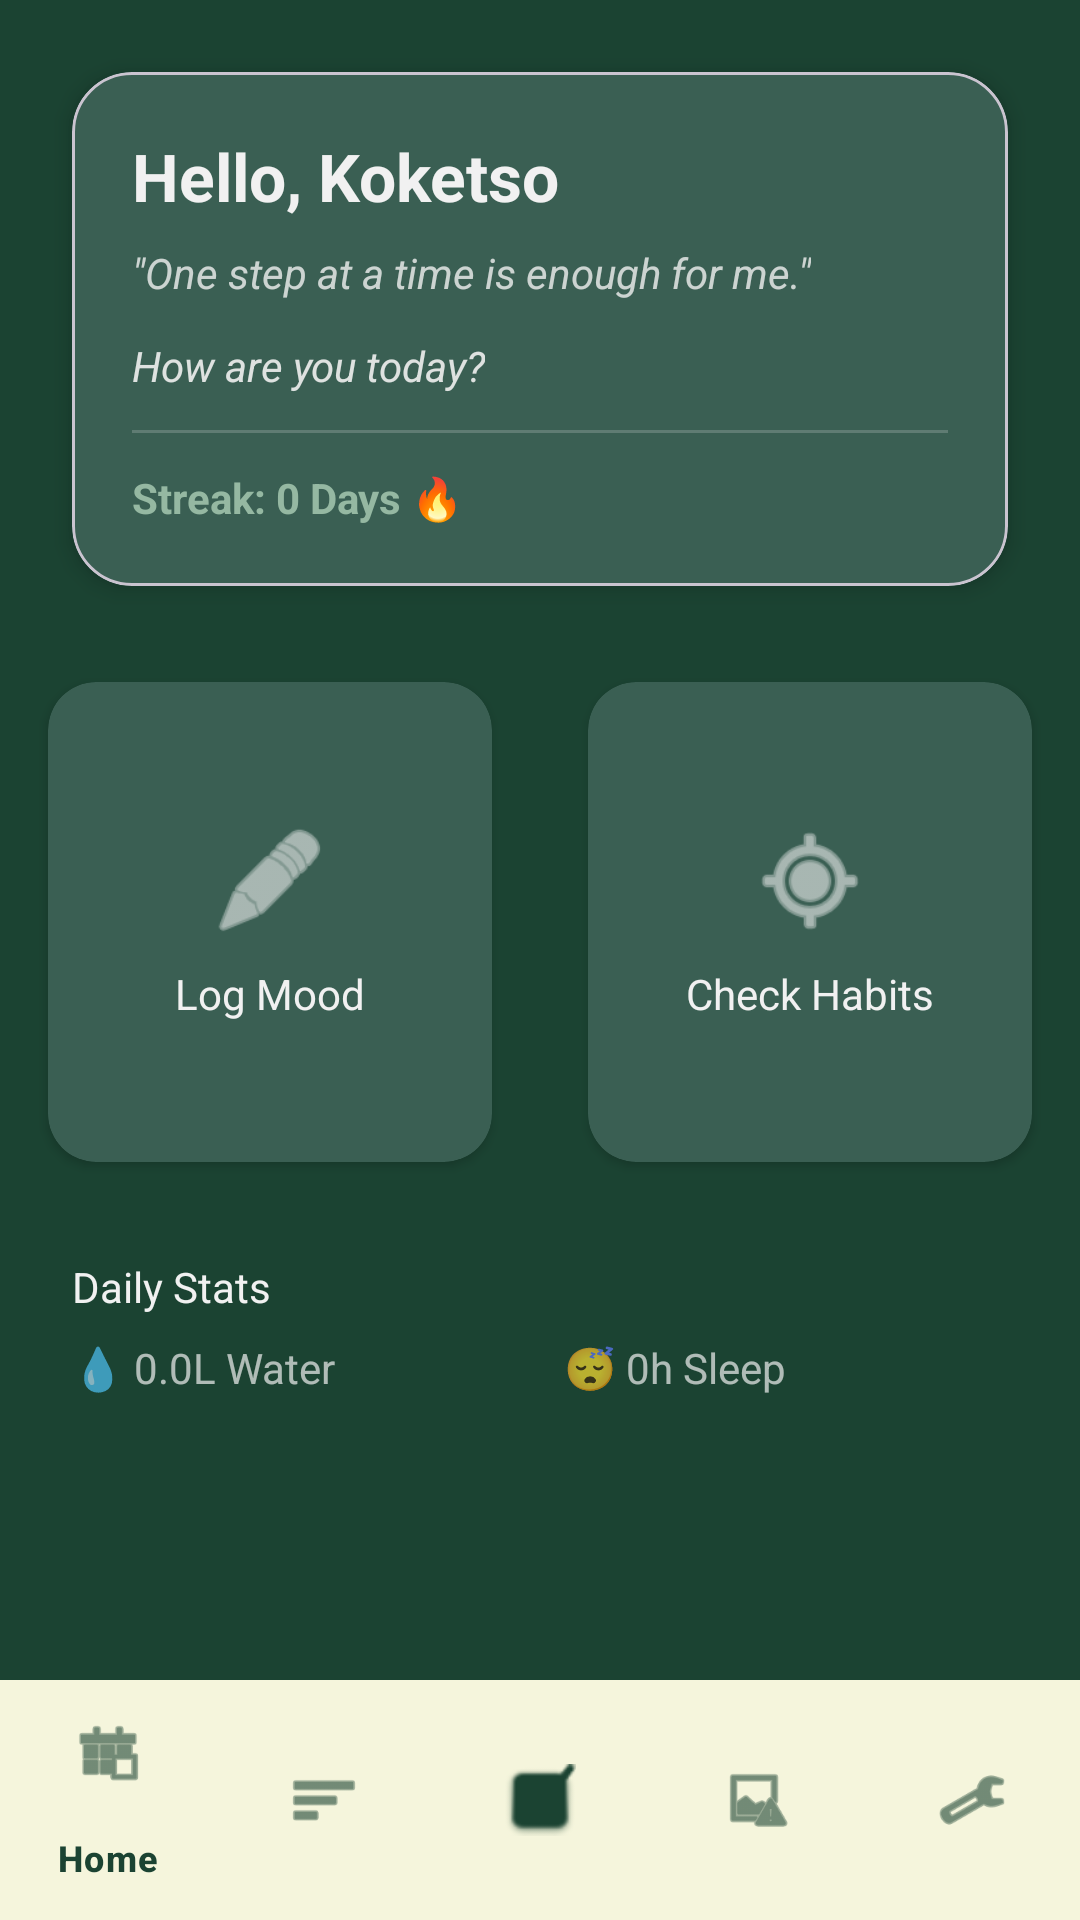

Icon bounding boxes for this 1080w x 1920h phone screenshot, format (x1, y1, x2, y2):
edit: (219, 829, 320, 931)
mylocation: (762, 833, 858, 929)
